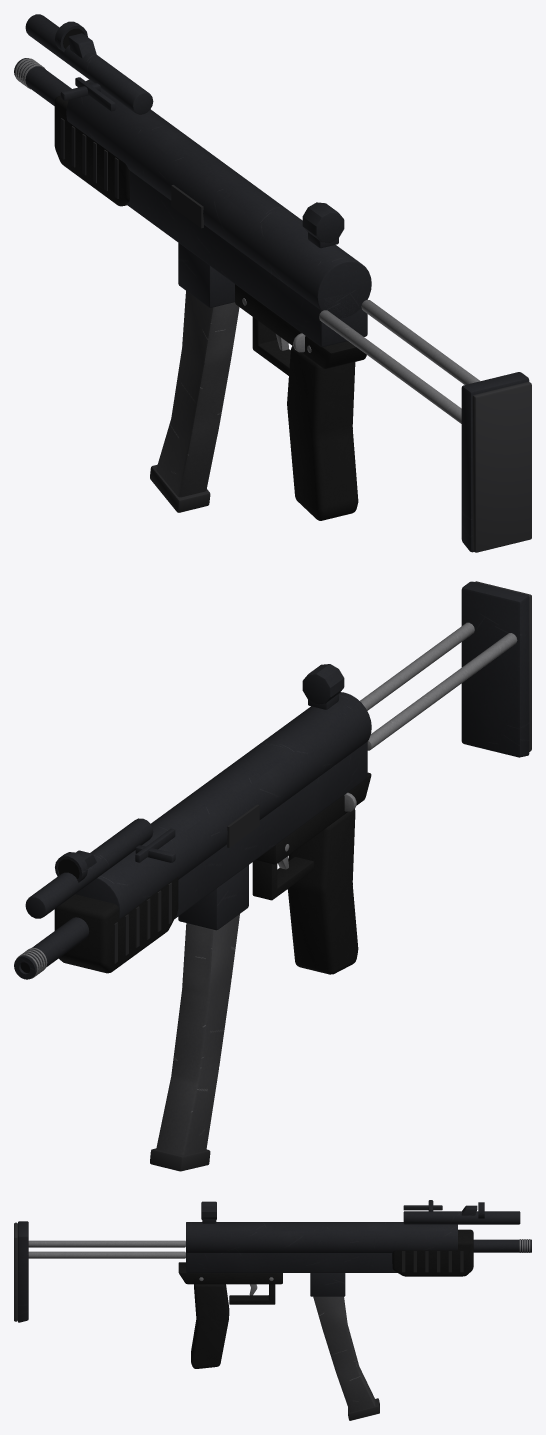
The model's file is smg.glb.
3 renders of one model, top to bottom at view 1: azimuth 30°, elevation 25°; view 2: azimuth 150°, elevation 25°; view 3: azimuth 270°, elevation 25°, orthographic. The views are drawn at different scales.
Parts seen in each view (by area): view 1: smg; view 2: smg; view 3: smg.
Boxes of the visible parts, box(x1,y1,x2,y2) form: smg: box(14, 14, 531, 552); smg: box(14, 581, 531, 1171); smg: box(14, 1200, 531, 1420).
Bounding box in the file's own units: 0.069 × 0.3046 × 0.666.
7 materials, 4 textured.
